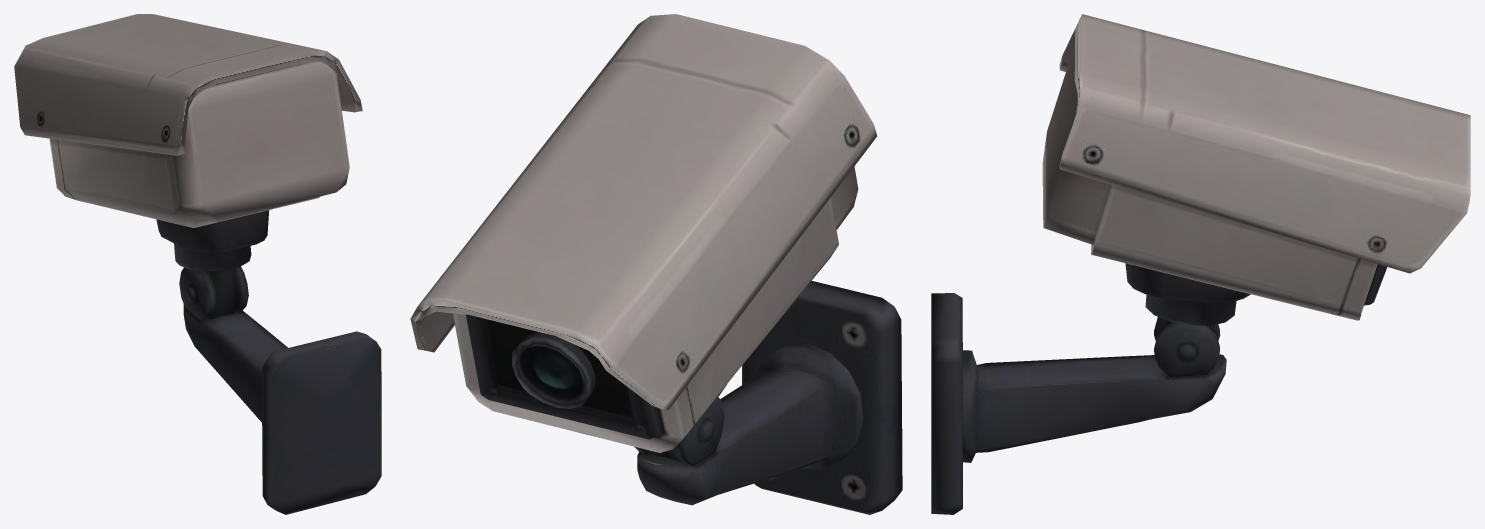
The model's file is security-camera.glb.
3 renders of one model, left to right at view 1: azimuth 30°, elevation 25°; view 2: azimuth 150°, elevation 25°; view 3: azimuth 270°, elevation 25°, orthographic. The views are drawn at different scales.
Parts seen in each view (by area): view 1: meshy-security-camera; view 2: meshy-security-camera; view 3: meshy-security-camera.
Part boxes in pixels (x1,y1,x2,y2): meshy-security-camera: (14,14,381,514); meshy-security-camera: (410,14,902,514); meshy-security-camera: (931,14,1470,514).
Size of the model in its own units: 0.2805 by 0.5692 by 0.62.
1 material, 1 textured.
